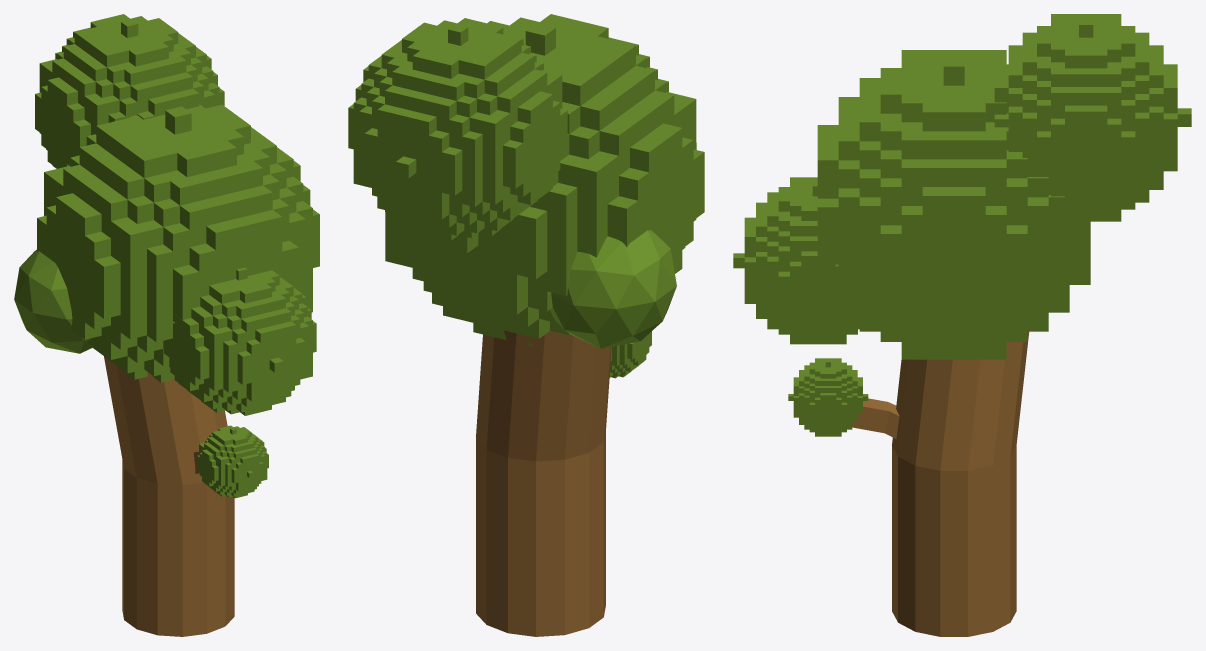
File: Poly Tree.fbx
The picture shows the model from 3 angles, left to right: view 1: azimuth 30°, elevation 25°; view 2: azimuth 150°, elevation 25°; view 3: azimuth 270°, elevation 25°; orthographic projection. The views are drawn at different scales.
Visible parts, largest first — view 1: Poly Tree; view 2: Poly Tree; view 3: Poly Tree.
Part boxes in pixels (left/top/right/bottom): Poly Tree: left=14, top=14, right=319, bottom=636; Poly Tree: left=348, top=14, right=704, bottom=636; Poly Tree: left=733, top=14, right=1191, bottom=636.
Size of the model in its own units: 331 by 717 by 500.
